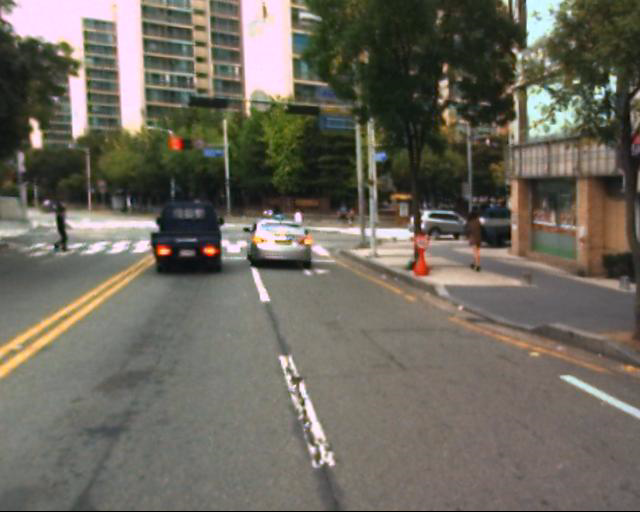person: (461, 205, 495, 285), (54, 199, 83, 259), (293, 209, 313, 250)
